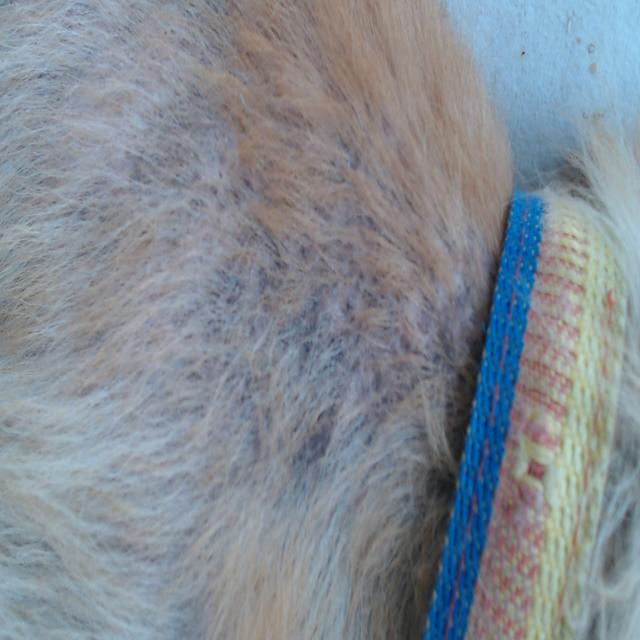demodicosis: (261, 165, 431, 481)
